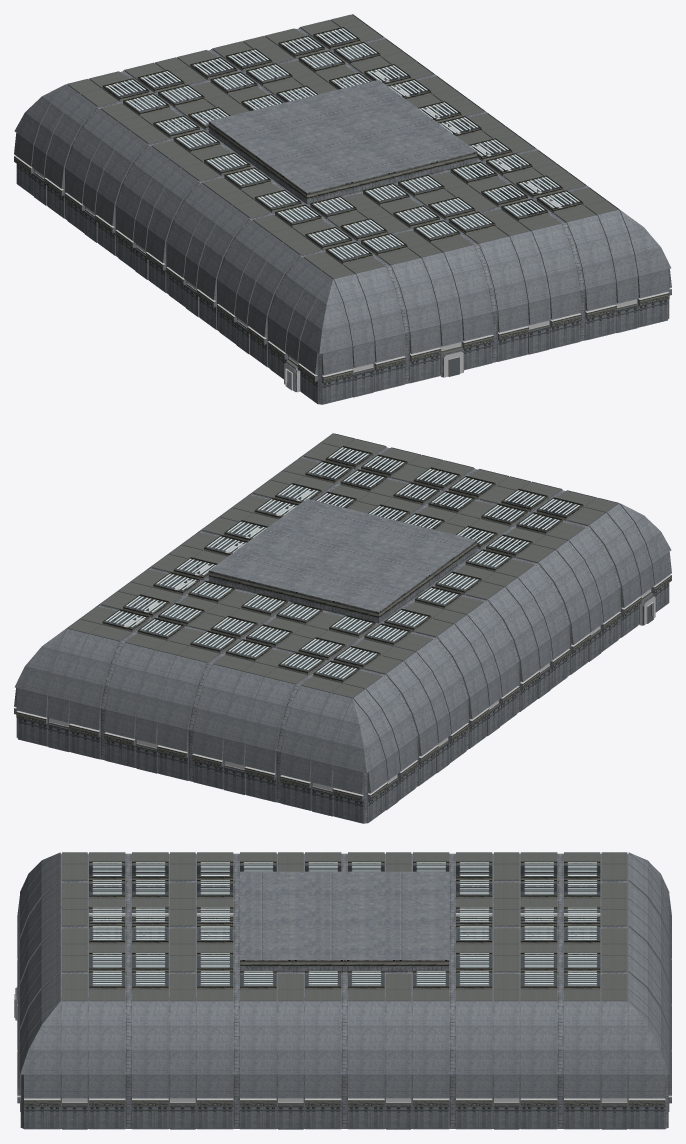
File: poi_all_impl_bunker_warren_s01_r27_hugeroom27_mesh_r27.fbx
3 renders of one model, top to bottom at view 1: azimuth 30°, elevation 25°; view 2: azimuth 150°, elevation 25°; view 3: azimuth 270°, elevation 25°, orthographic. The views are drawn at different scales.
Visible parts, largest first — view 1: mesh_node; view 2: mesh_node; view 3: mesh_node.
Part boxes in pixels (bbox=[...]): mesh_node: bbox=[14, 14, 671, 404]; mesh_node: bbox=[14, 433, 671, 823]; mesh_node: bbox=[14, 852, 671, 1129].
Bounding box in the file's own units: 65.5 × 20 × 97.5.
